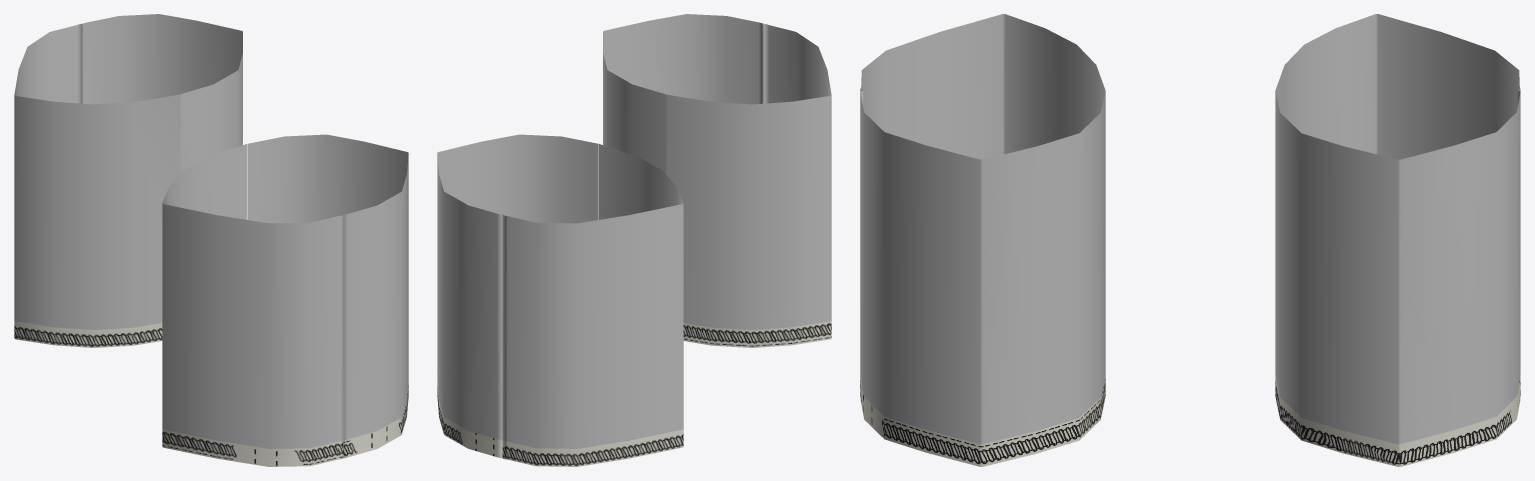
Rendered from 5_cm_unfinished.glb.
The picture shows the model from 3 angles, left to right: view 1: azimuth 30°, elevation 25°; view 2: azimuth 150°, elevation 25°; view 3: azimuth 270°, elevation 25°; orthographic projection. The views are drawn at different scales.
Parts seen in each view (by area): view 1: SM_T_Vent_5cm_Unfinished; view 2: SM_T_Vent_5cm_Unfinished; view 3: SM_T_Vent_5cm_Unfinished.
Boxes of the visible parts, left/top/right/bottom form: SM_T_Vent_5cm_Unfinished: left=14, top=14, right=408, bottom=466; SM_T_Vent_5cm_Unfinished: left=437, top=14, right=831, bottom=466; SM_T_Vent_5cm_Unfinished: left=860, top=14, right=1520, bottom=466.
Size of the model in its own units: 0.8621 by 0.848 by 1.65.
2 materials, 1 textured.
